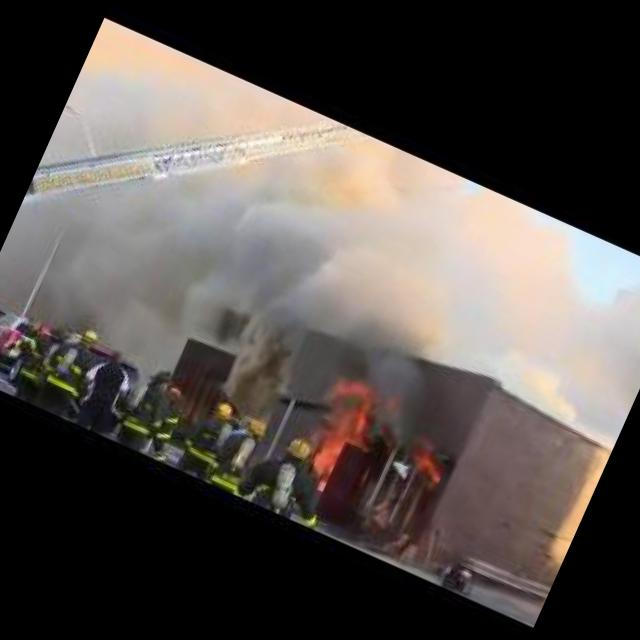fire: (304, 384, 460, 530)
smoke: (29, 124, 392, 440), (332, 316, 452, 446)
